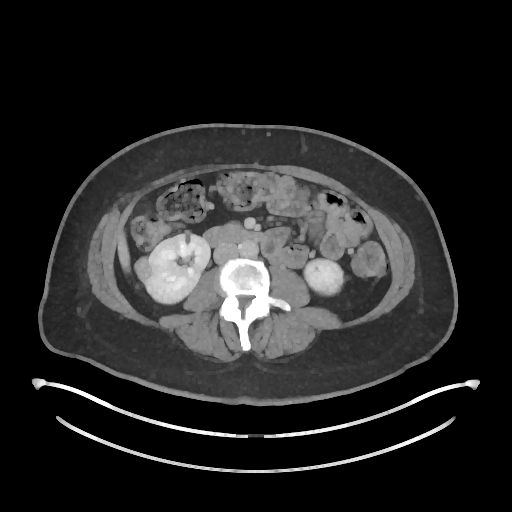Lesion: (132, 253, 154, 287)
